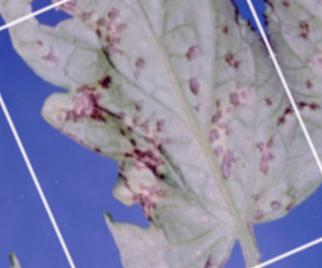Tomato leaf bacterial spot: (3, 0, 322, 268)
